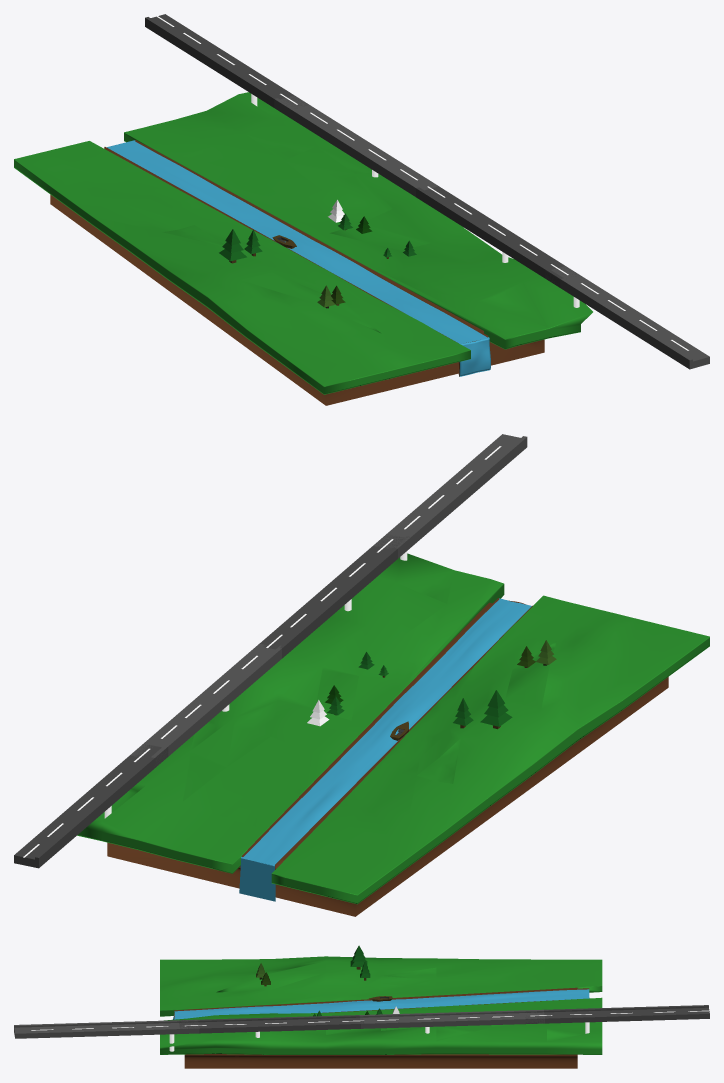
Rendered from Newtes.glb.
The picture shows the model from 3 angles, top to bottom: view 1: azimuth 30°, elevation 25°; view 2: azimuth 150°, elevation 25°; view 3: azimuth 270°, elevation 25°; orthographic projection. The views are drawn at different scales.
Parts seen in each view (by area): view 1: Cube.001-col, park-col, road-col; view 2: Cube.001-col, park-col, road-col; view 3: Cube.001-col, road-col, park-col, Cube.006-col.
Part boxes in pixels (bbox=[...]): Cube.001-col: bbox=[14, 92, 592, 394]; park-col: bbox=[50, 140, 544, 405]; road-col: bbox=[145, 14, 709, 369]; Cube.001-col: bbox=[77, 553, 709, 904]; park-col: bbox=[107, 598, 668, 916]; road-col: bbox=[14, 434, 527, 868]; Cube.001-col: bbox=[160, 956, 602, 1054]; road-col: bbox=[14, 1005, 709, 1051]; park-col: bbox=[173, 987, 589, 1068]; Cube.006-col: bbox=[350, 945, 367, 969].
Size of the model in its own units: 105 by 30.19 by 314.
